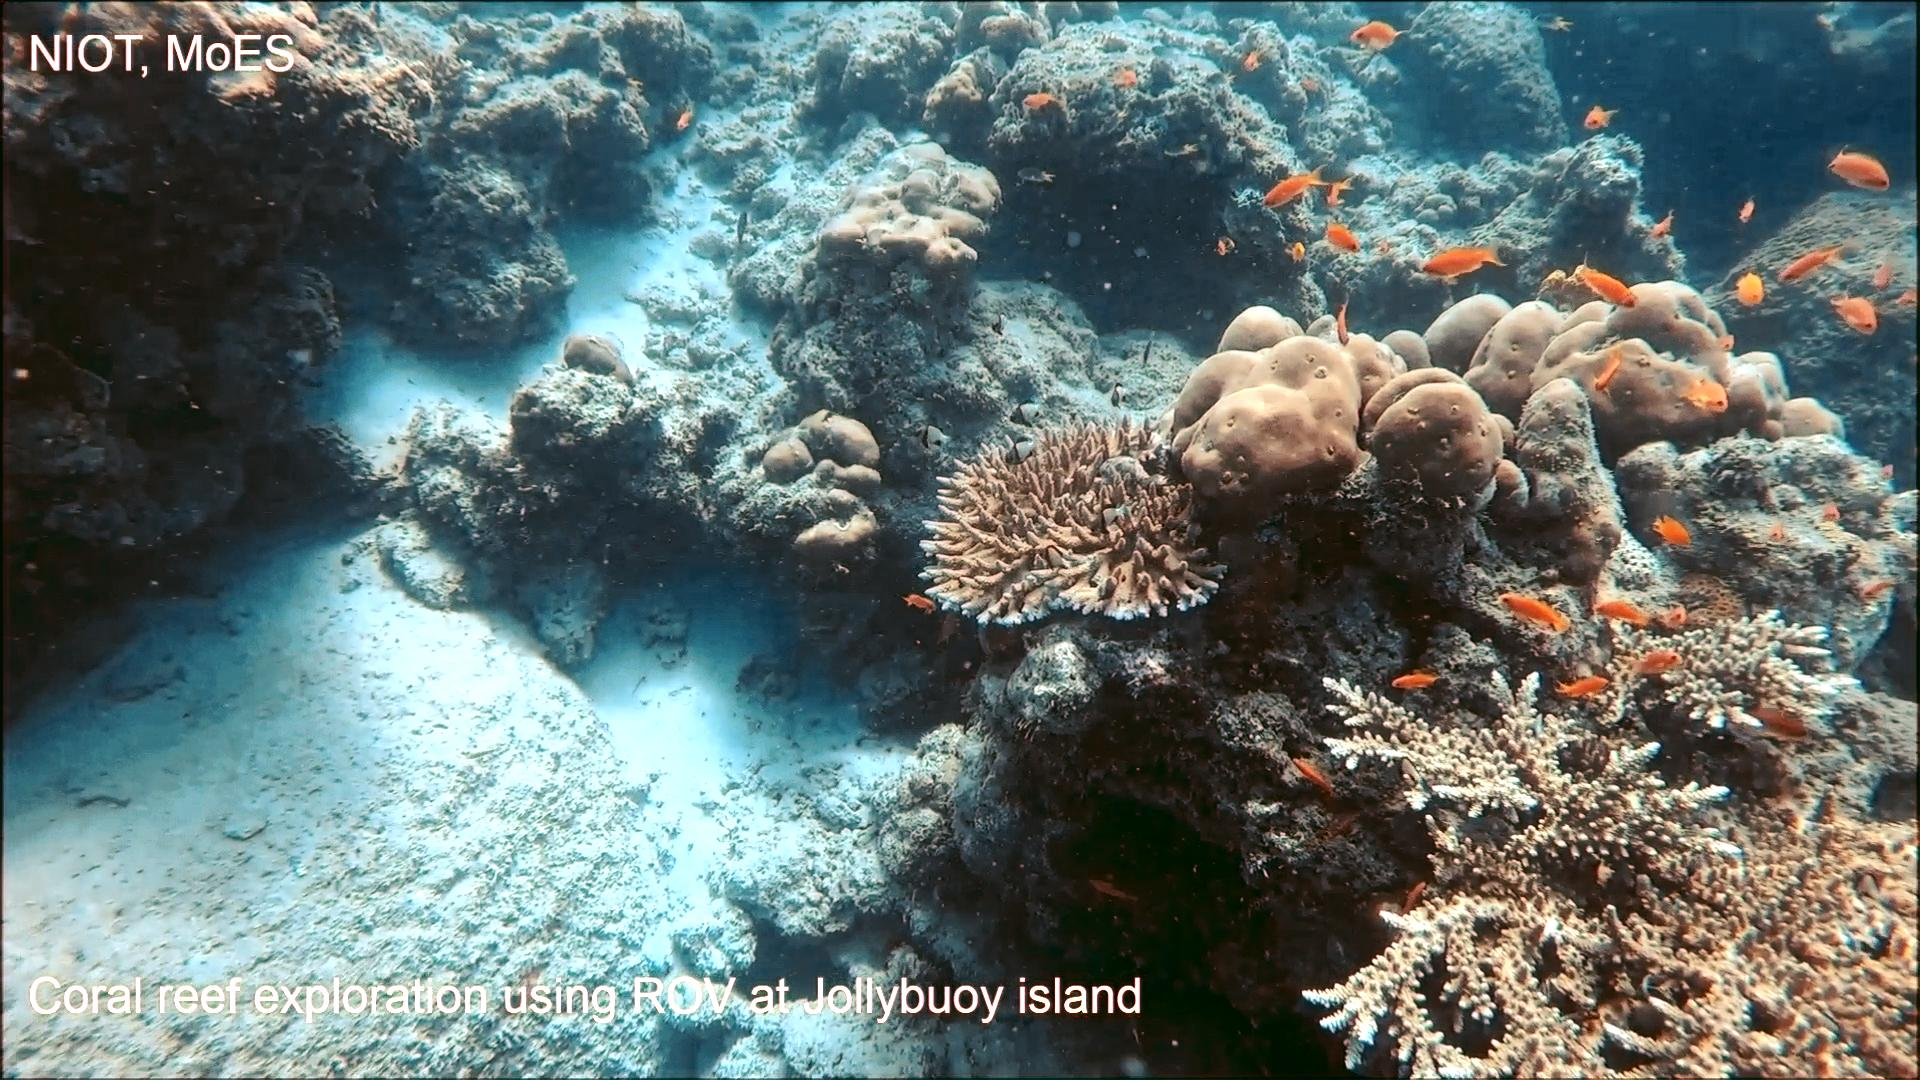Porites-Porites pukoensis: (1422, 270, 1855, 464), (1160, 293, 1515, 517)
